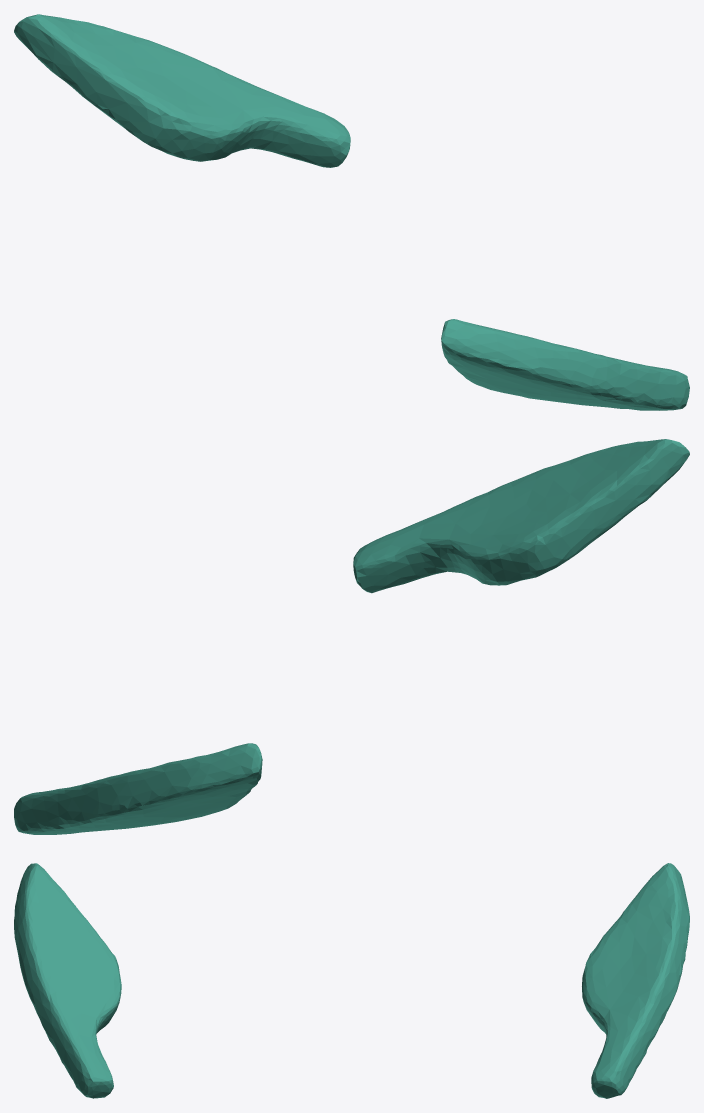
The picture shows the model from 3 angles, top to bottom: view 1: azimuth 30°, elevation 25°; view 2: azimuth 150°, elevation 25°; view 3: azimuth 270°, elevation 25°; orthographic projection. The views are drawn at different scales.
Parts seen in each view (by area): view 1: 854.obj; view 2: 854.obj; view 3: 854.obj.
Part boxes in pixels (x1=…): 854.obj: x1=14, y1=14, x2=689, y2=410; 854.obj: x1=14, y1=439, x2=689, y2=834; 854.obj: x1=14, y1=863, x2=689, y2=1098.
Bounding box in the file's own units: 2293 × 1383 × 6107.
